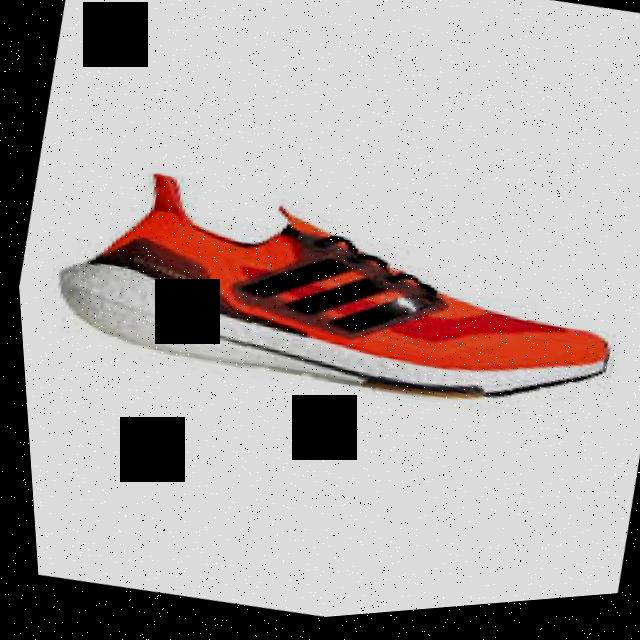shoe: (31, 127, 640, 480)
